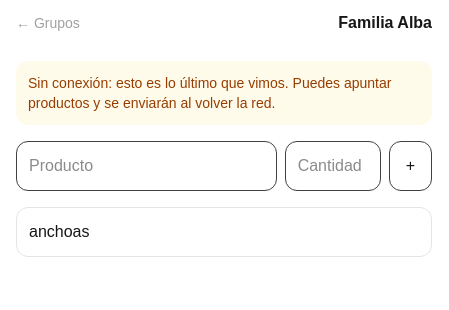
Test: Spec C · desde la cáscara se apunta, con la misma regla › i3: sin red, «100» avisa y no se encola
Expected: the field with test id "item-qty" is shown, [285,141,381,191]
Type "pan" into the field with test id "item-name" at (146, 166), box [16,141,277,191]
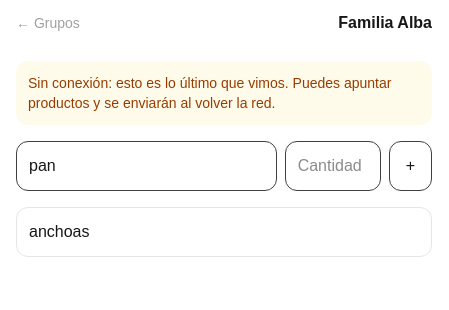
Type "100" into the field with test id "item-qty" at (333, 166), box [285,141,381,191]
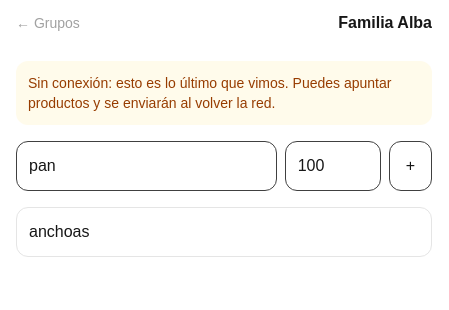
Click the button with test id "add-item" at (410, 166), box [389,141,432,191]
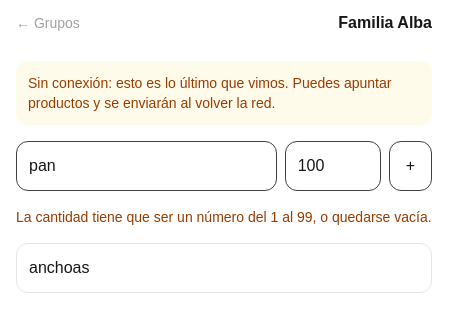
Expected: the message with test id "aviso-local" reads "La cantidad tiene que ser un número del 1 al 99, o quedarse vacía.", [16,209,432,225]
